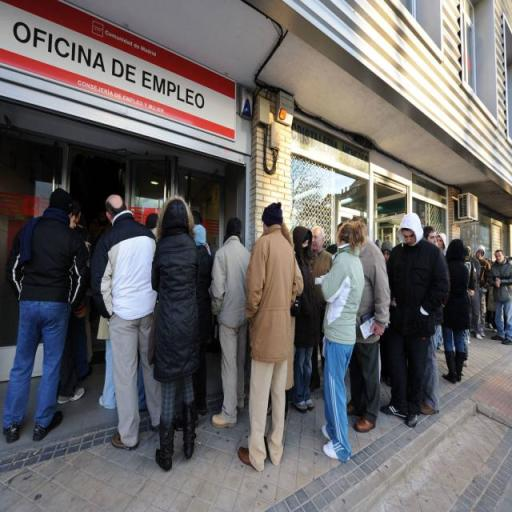person: (3, 190, 94, 440), (94, 193, 166, 450), (236, 204, 304, 472), (153, 197, 201, 471), (389, 216, 448, 431), (323, 224, 361, 463), (213, 218, 253, 431), (352, 217, 391, 432), (192, 227, 220, 424), (292, 223, 319, 413), (445, 240, 472, 384), (312, 227, 332, 394), (492, 251, 512, 346), (475, 247, 492, 341)
